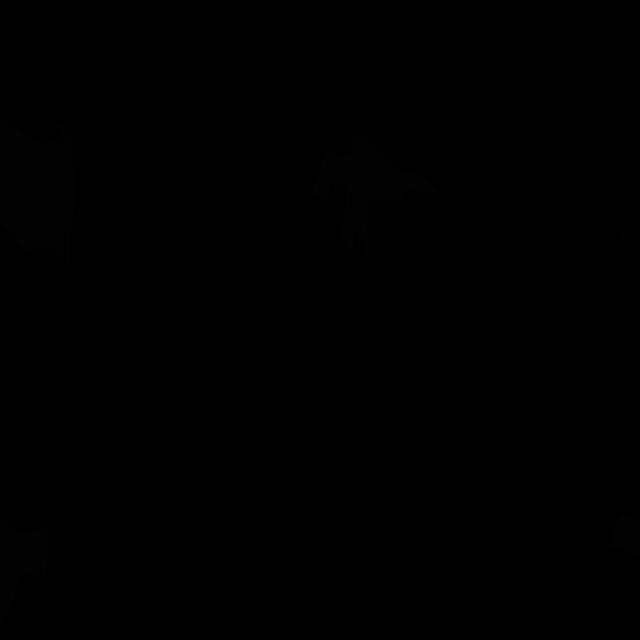cardboard: (338, 134, 440, 255), (0, 112, 78, 266), (0, 517, 50, 630), (310, 141, 342, 203), (610, 515, 640, 563)
rigid_plastic: (534, 157, 640, 292)
